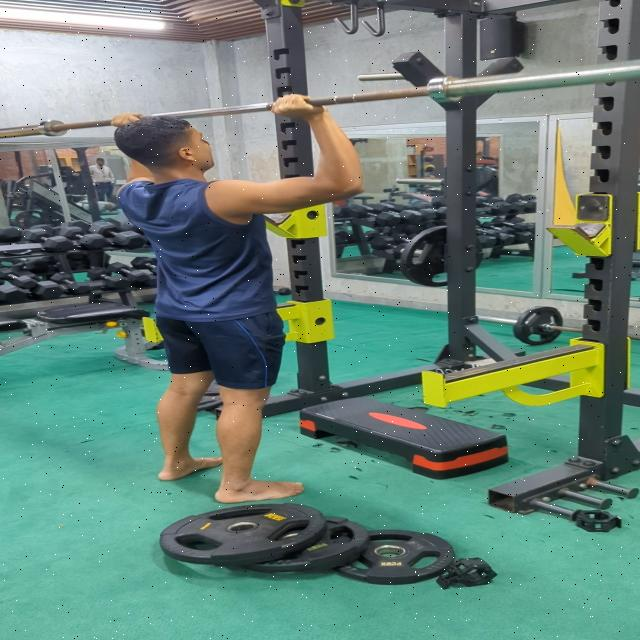Normal_OverheadPress: (92, 80, 376, 503)
